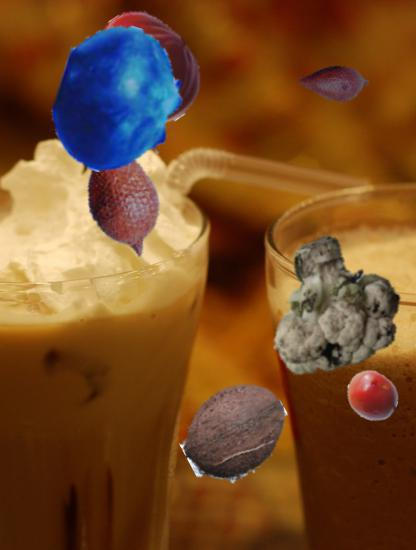Cauliflower: (261, 233, 401, 373)
Cocos: (180, 377, 291, 488)
Huckleberry: (44, 25, 194, 175)
Potato: (346, 369, 400, 423)
Salak: (59, 136, 184, 261), (299, 49, 370, 120)
Tomato: (89, 6, 210, 127)
